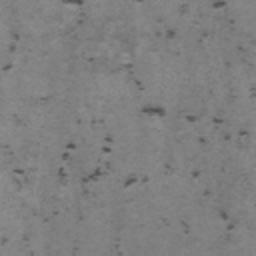Oxide scale of temperature system: (52, 0, 256, 234), (3, 31, 20, 72), (61, 0, 83, 6), (12, 166, 24, 174), (0, 234, 8, 246), (41, 93, 51, 102), (115, 250, 124, 256)
